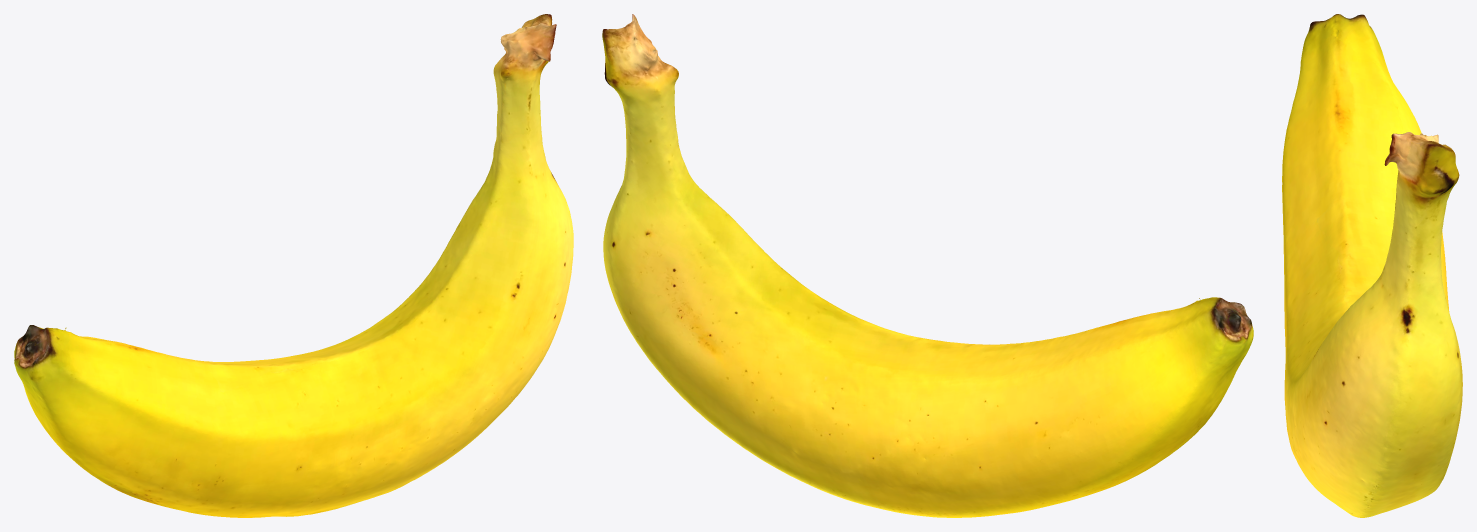
The model's file is banana-transformed.glb.
3 views of the same model, side by side, from view 1: azimuth 30°, elevation 25°; view 2: azimuth 150°, elevation 25°; view 3: azimuth 270°, elevation 25° (orthographic). The views are drawn at different scales.
Visible parts, largest first — view 1: Banana; view 2: Banana; view 3: Banana.
Part boxes in pixels (x1,y1,x2,y2): Banana: (14, 14, 573, 517); Banana: (602, 14, 1253, 517); Banana: (1282, 14, 1462, 517).
Size of the model in its own units: 6.73 by 4.59 by 1.57.
1 material, 1 textured.
